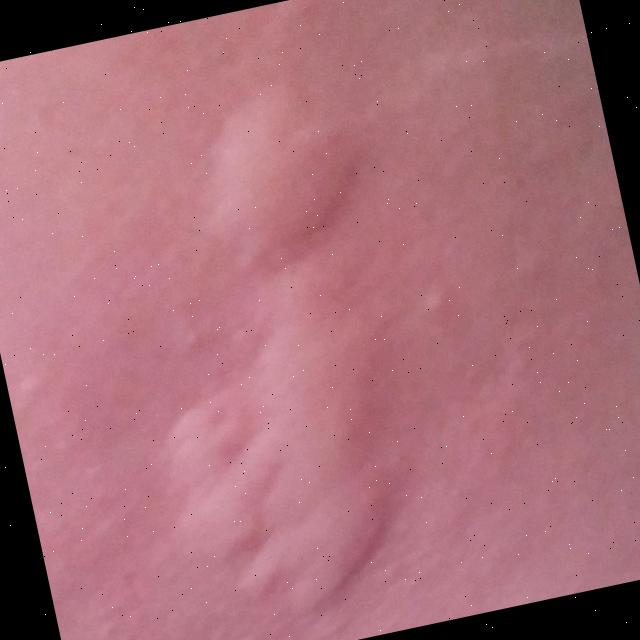sinek: (65, 16, 509, 640)
